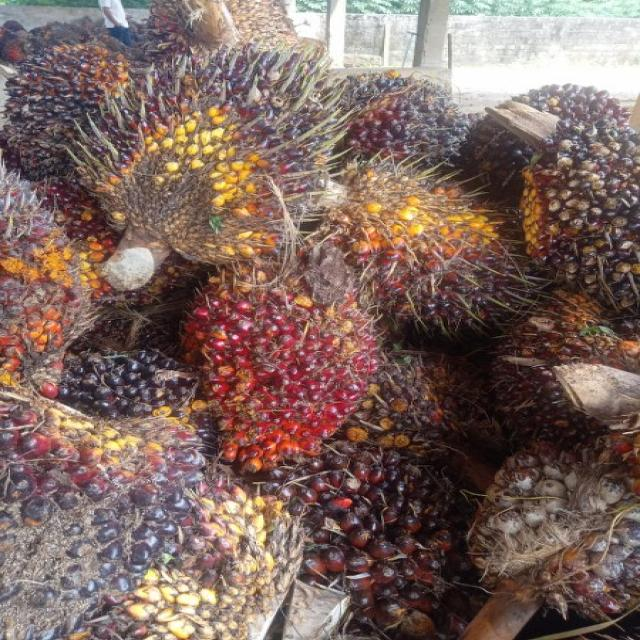fraksi 00: (60, 14, 382, 268)
fraksi 1: (321, 127, 541, 343)
fraksi 3: (142, 239, 414, 523)
